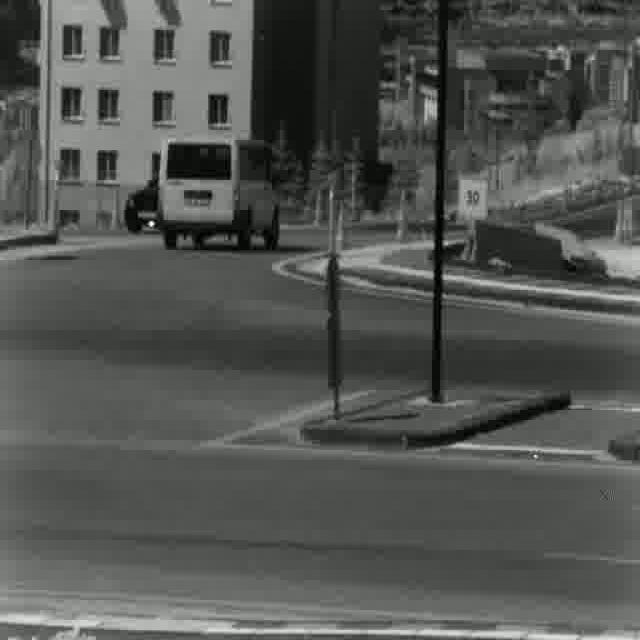Car: (162, 136, 280, 252), (120, 177, 161, 234)
